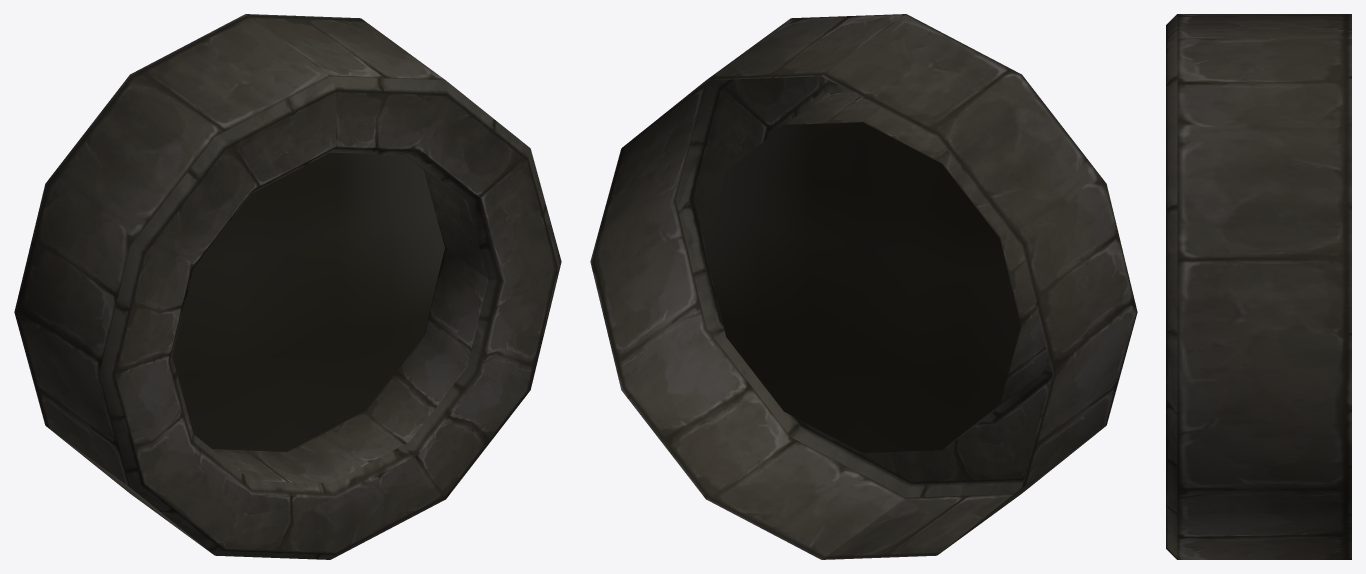
File: sewer_prop001.FBX
The picture shows the model from 3 angles, left to right: view 1: azimuth 30°, elevation 25°; view 2: azimuth 150°, elevation 25°; view 3: azimuth 270°, elevation 25°; orthographic projection. The views are drawn at different scales.
Parts seen in each view (by area): view 1: sewer_prop001; view 2: sewer_prop001; view 3: sewer_prop001.
Part boxes in pixels (x1,y1,x2,y2): sewer_prop001: (14, 14, 561, 559); sewer_prop001: (590, 14, 1137, 559); sewer_prop001: (1166, 14, 1351, 559).
Bounding box in the file's own units: 437 × 437 × 148.
